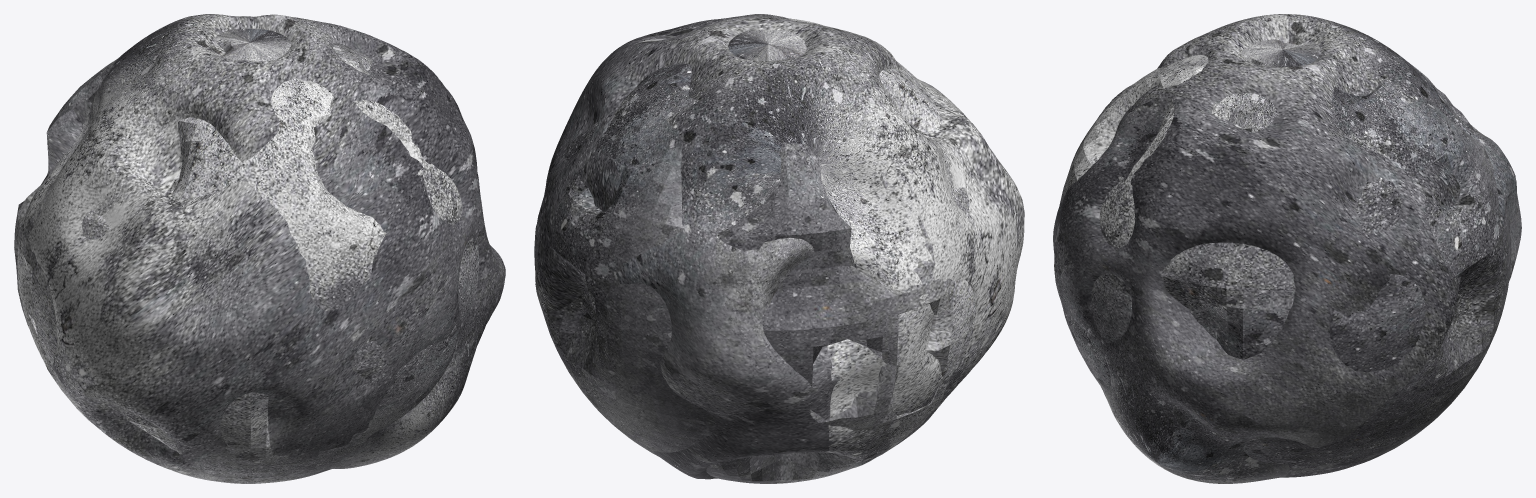
Rendered from meteor.glb.
3 views of the same model, side by side, from view 1: azimuth 30°, elevation 25°; view 2: azimuth 150°, elevation 25°; view 3: azimuth 270°, elevation 25° (orthographic). The views are drawn at different scales.
Visible parts, largest first — view 1: Sphere, Sphere.001; view 2: Sphere, Sphere.001; view 3: Sphere, Sphere.001.
Part boxes in pixels (x1,y1,x2,y2): Sphere: (17,14,505,476); Sphere.001: (14,28,479,483); Sphere: (535,14,1024,479); Sphere.001: (534,18,976,483); Sphere: (1053,14,1521,483); Sphere.001: (1059,39,1511,477).
Size of the model in its own units: 2.06 by 1.96 by 2.05.
Materials: 2 (2 with a texture image).
